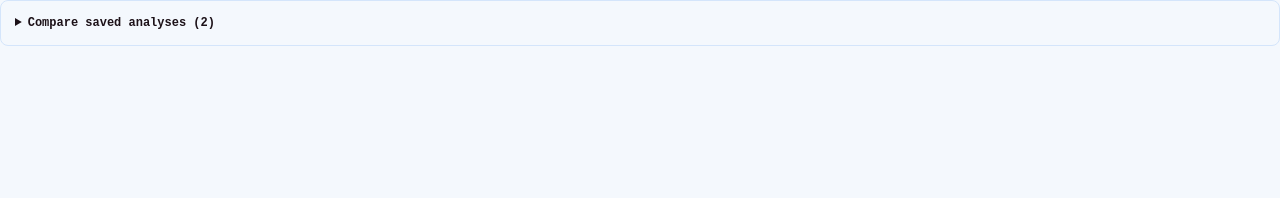
AIReportComparison › compares real saved fields without treating failed requests as suggestions
Click the heading "Compare saved analyses (2)" at (121, 23), box [28, 16, 215, 30]
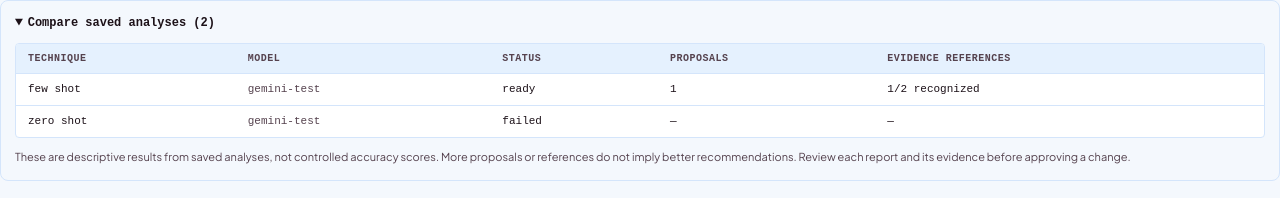
Result: the table named "Saved AI analysis comparison" is shown at [16, 44, 1264, 137]
Result: the text "few shot" is shown at [16, 74, 236, 106]
Result: the text "1/2 recognized" is shown at [875, 74, 1264, 106]
